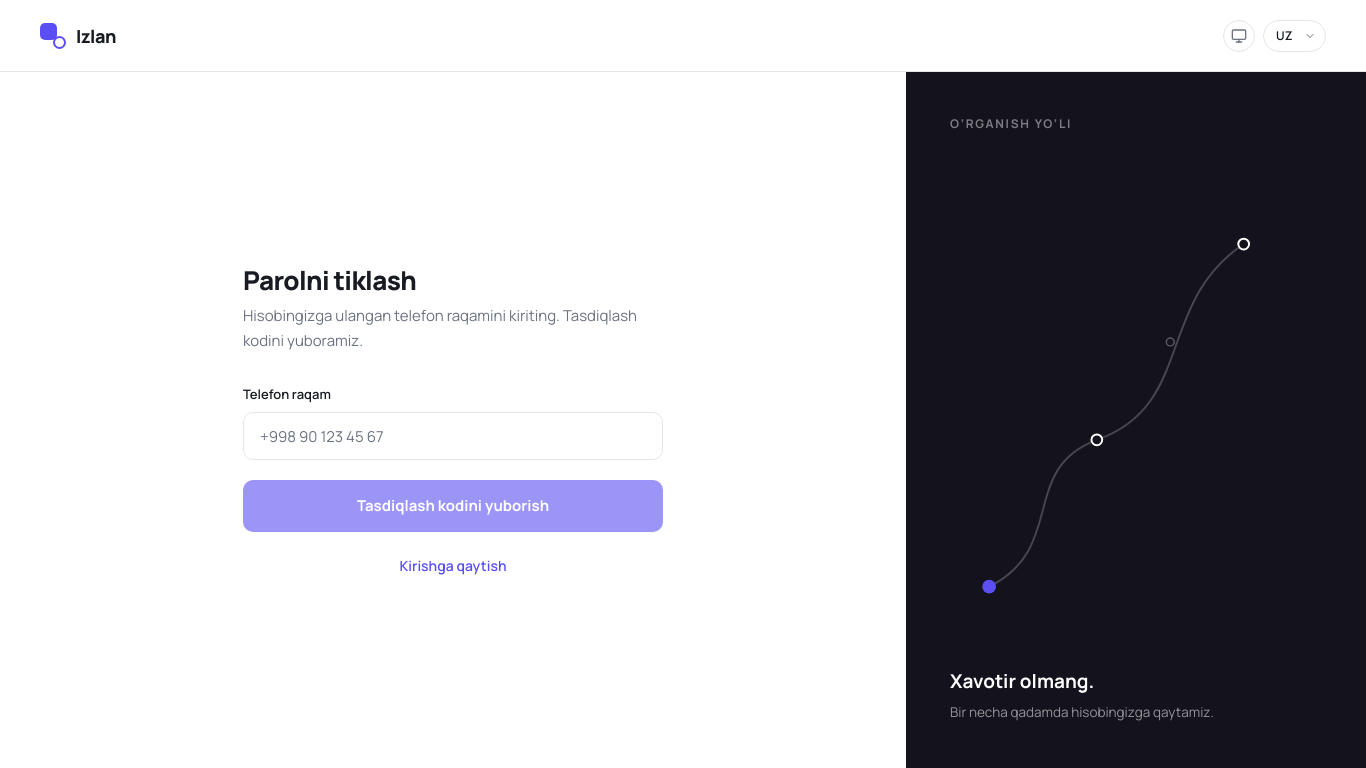
Test: Learner password recovery (WEB-REC) › WEB-REC-01 uses the PASSWORD_RESET OTP purpose
The image size is (1366, 768).
Type "+998900000003" into the field labelled "Telefon raqam" at [453, 436], box [243,412,663,460]
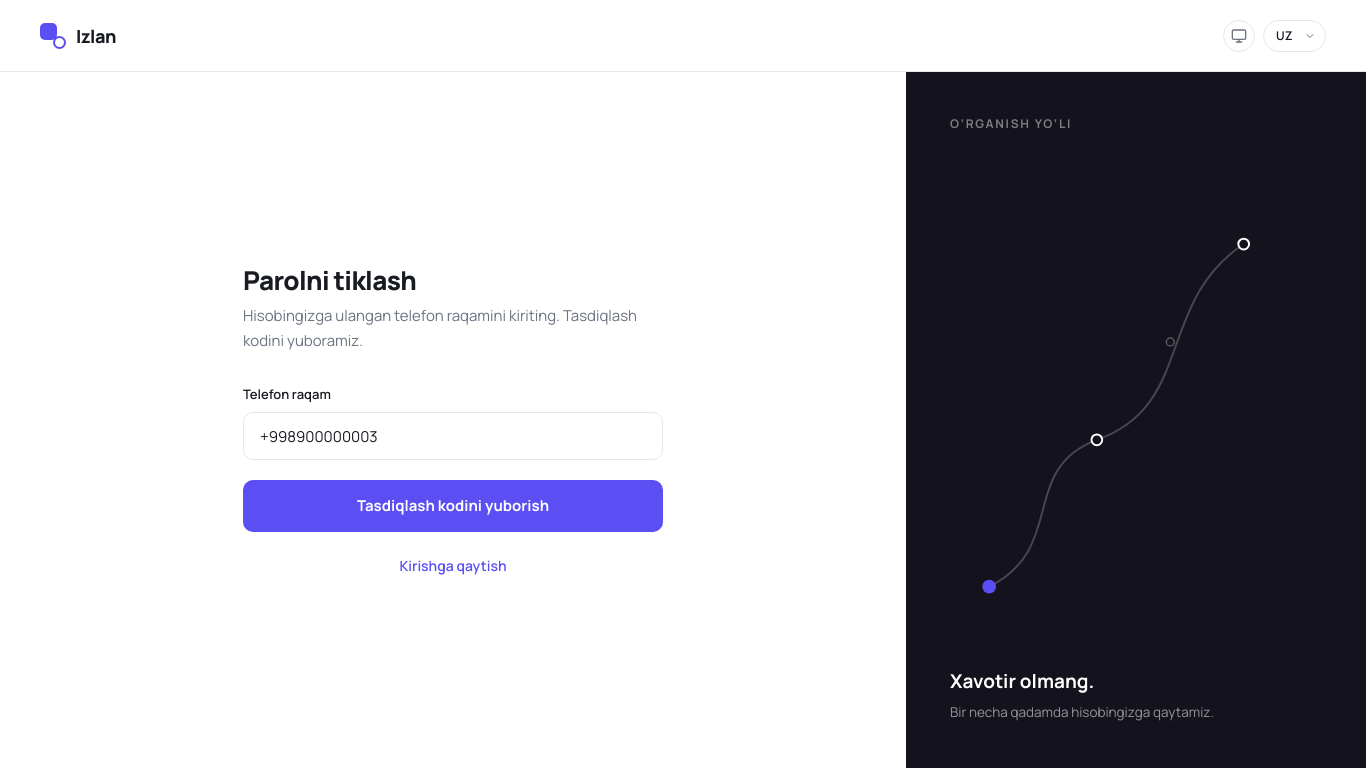
Click the button "Tasdiqlash kodini yuborish" at [453, 506], box [243,480,663,532]
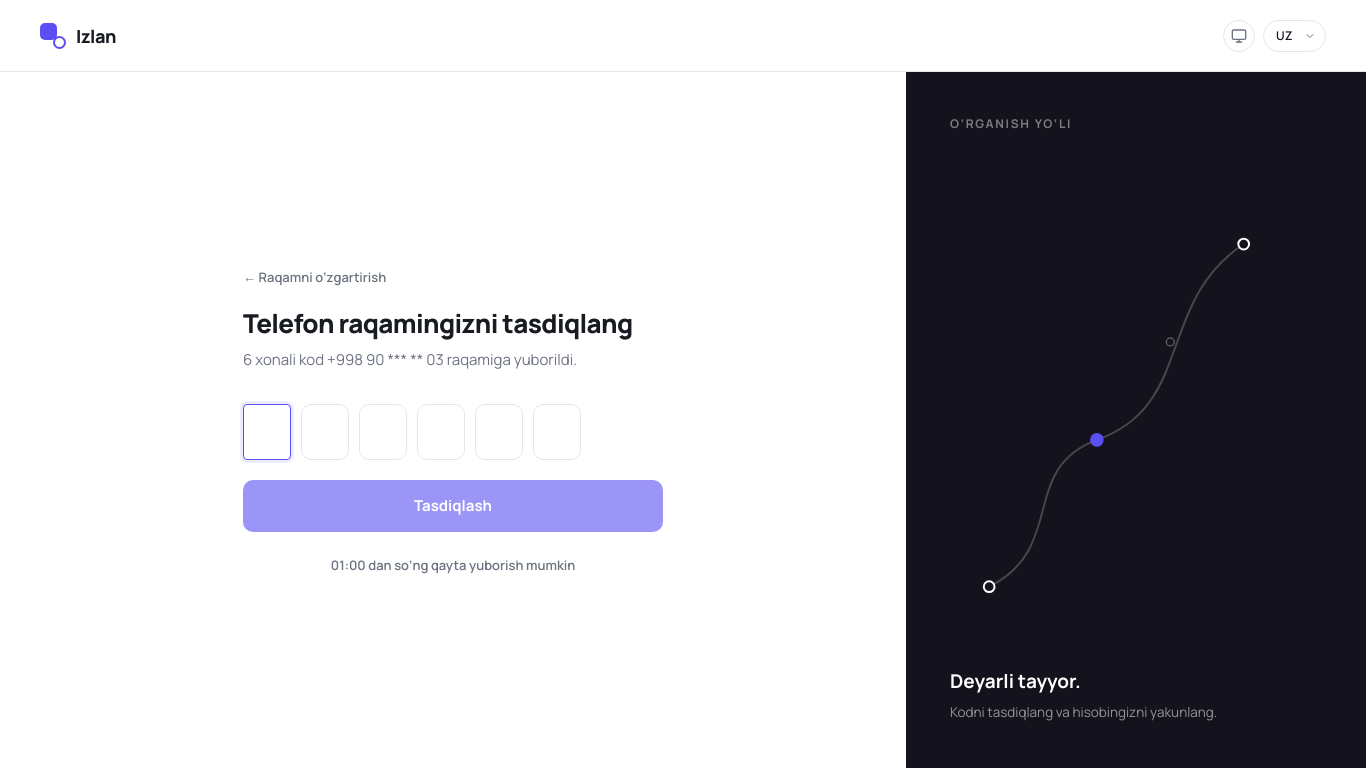
Expected: the element named "Tasdiqlash kodi" is shown, [243,404,581,460]
